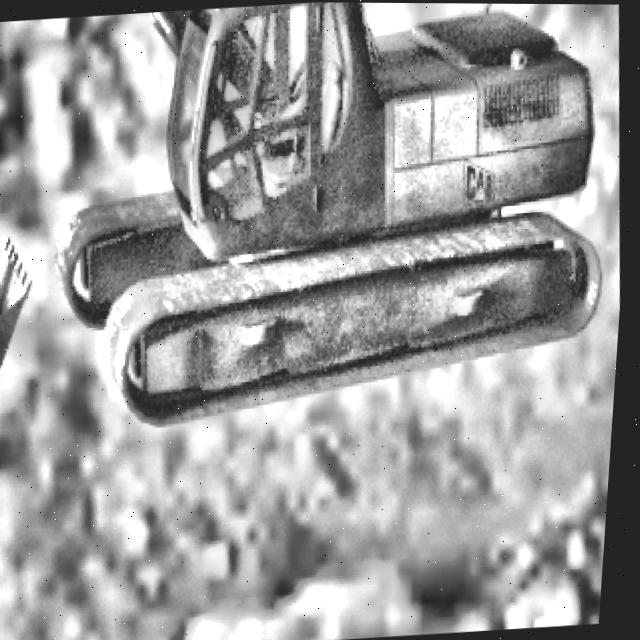excavator: (0, 0, 625, 439)
